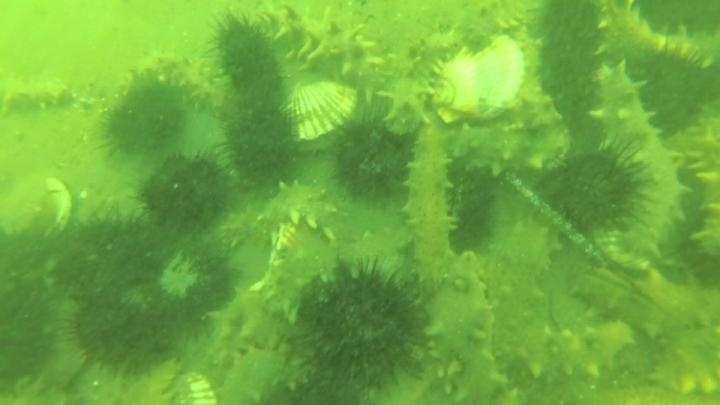echinus: (289, 256, 434, 400), (539, 141, 652, 239), (53, 209, 164, 304), (64, 288, 182, 377), (137, 236, 240, 336), (597, 1, 720, 72), (136, 150, 236, 236), (328, 111, 417, 206), (533, 3, 607, 117), (629, 44, 717, 136), (217, 97, 303, 189), (101, 79, 193, 159), (206, 12, 287, 101), (1, 282, 59, 391), (446, 162, 499, 256), (631, 1, 719, 42), (534, 1, 604, 47)
holothurian: (585, 57, 693, 256), (567, 260, 720, 395), (205, 217, 341, 359), (458, 213, 565, 391), (414, 246, 510, 404), (214, 181, 339, 295), (596, 12, 719, 126), (258, 1, 391, 98), (444, 97, 571, 181), (397, 124, 463, 283), (496, 317, 639, 387), (591, 2, 720, 76), (379, 27, 463, 137), (258, 219, 339, 325), (204, 284, 308, 363), (676, 117, 720, 269), (123, 49, 229, 112), (645, 322, 719, 401), (220, 345, 313, 405), (256, 180, 339, 240), (590, 1, 664, 67), (453, 1, 530, 54), (643, 20, 720, 73), (1, 68, 76, 117)
scallop: (430, 33, 533, 125), (672, 116, 720, 271), (272, 76, 363, 148), (333, 228, 416, 294), (503, 25, 557, 124), (1, 173, 74, 245), (591, 223, 664, 276), (223, 234, 277, 297), (546, 286, 600, 337), (167, 370, 219, 405)
